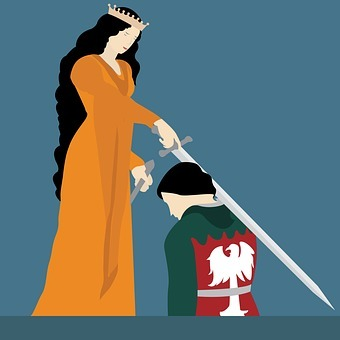person: (27, 3, 156, 316), (155, 159, 272, 314)
